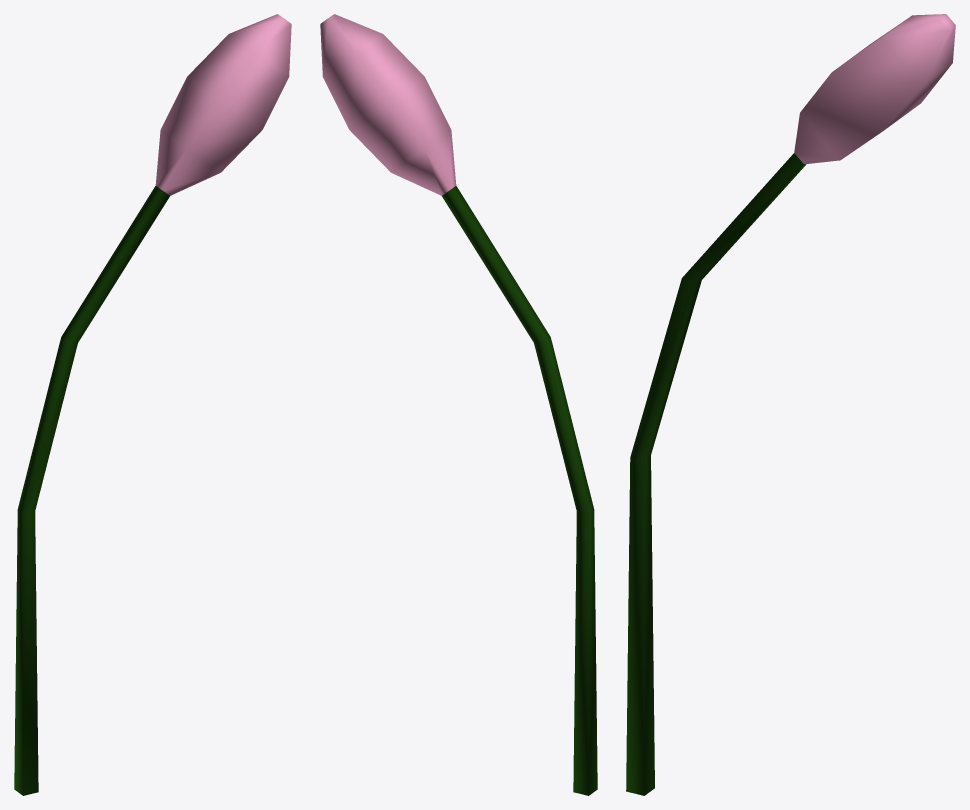
The model's file is Flower_bud_1.fbx.
The picture shows the model from 3 angles, left to right: view 1: azimuth 30°, elevation 25°; view 2: azimuth 150°, elevation 25°; view 3: azimuth 330°, elevation 25°; orthographic projection. The views are drawn at different scales.
Visible parts, largest first — view 1: Flower_bud_1; view 2: Flower_bud_1; view 3: Flower_bud_1.
Boxes of the visible parts, left/top/right/bottom form: Flower_bud_1: left=14, top=14, right=291, bottom=795; Flower_bud_1: left=320, top=14, right=597, bottom=795; Flower_bud_1: left=626, top=14, right=955, bottom=795.
Bounding box in the file's own units: 25.34 × 63.93 × 5.35.
